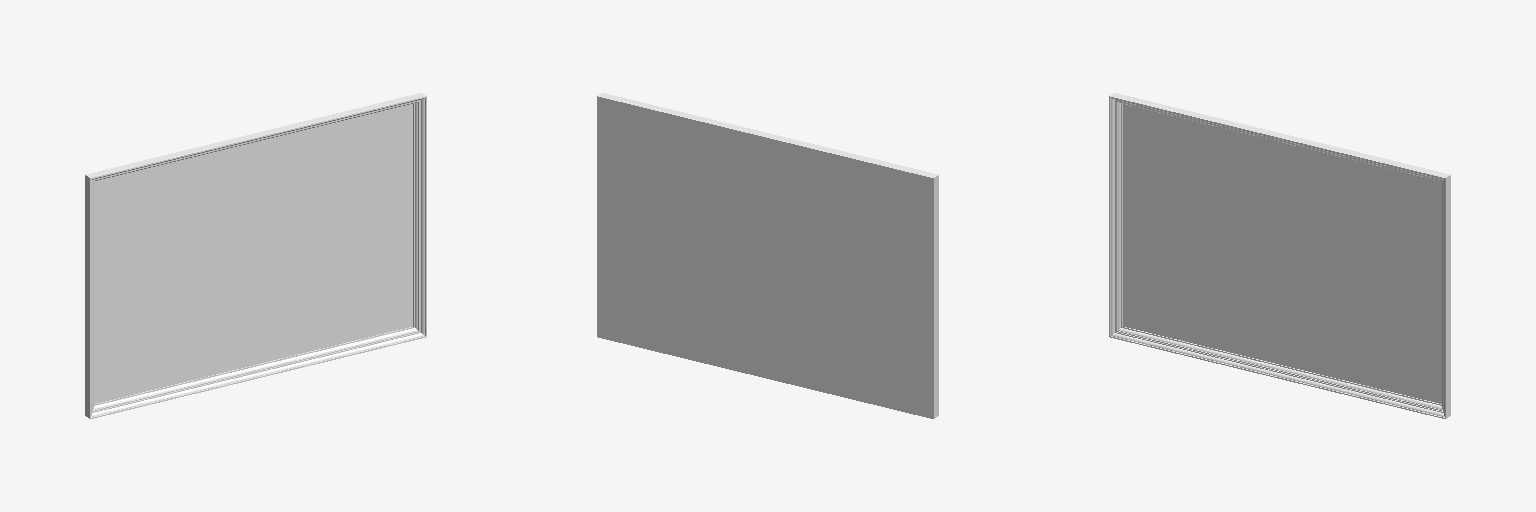
The picture shows the model from 3 angles: view 1: azimuth 30°, elevation 25°; view 2: azimuth 150°, elevation 25°; view 3: azimuth 330°, elevation 25°; orthographic projection.
Parts seen in each view (by area): view 1: painting; view 2: painting; view 3: painting.
Boxes of the visible parts, x1,y1,x2,y2 form: painting: [85, 93, 426, 418]; painting: [597, 93, 938, 418]; painting: [1109, 93, 1450, 418].
Size of the model in its own units: 76 by 52 by 2.